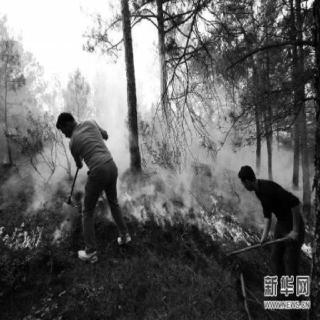Fire: (306, 223, 316, 236)
